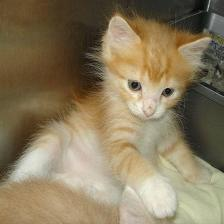cat: (94, 4, 206, 128)
